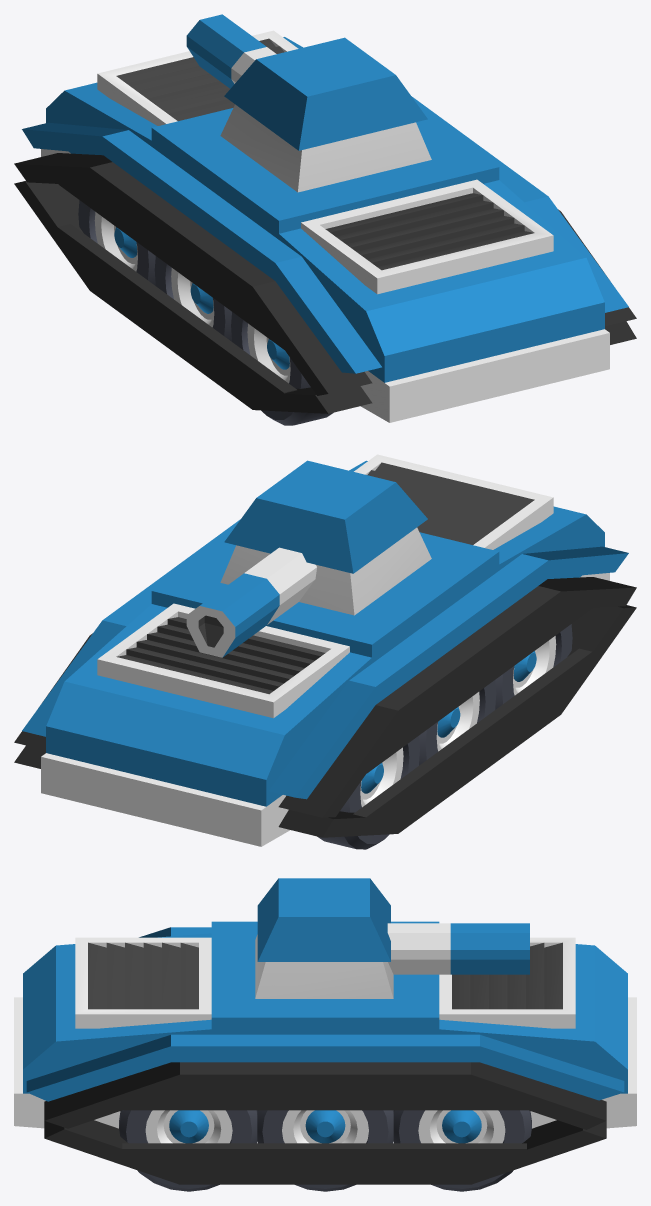
Rendered from Tank01.obj.
The picture shows the model from 3 angles, top to bottom: view 1: azimuth 30°, elevation 25°; view 2: azimuth 150°, elevation 25°; view 3: azimuth 270°, elevation 25°; orthographic projection. The views are drawn at different scales.
Visible parts, largest first — view 1: hood_default_2, engine_default_24, detail_fenderSquare_12, air_ventLarge_26, block_default_8, detail_fenderSquare_11, detail_fenderSquare_7, air_ventLarge_25, engine_barrel_23, hood_default_1, detail_fenderSquare_22, wheel_colored_14 (+2 smaller); view 2: hood_default_1, engine_default_24, detail_fenderSquare_12, detail_fenderSquare_11, air_ventLarge_25, detail_fenderSquare_7, block_default_8, air_ventLarge_26, engine_barrel_23, hood_default_2, detail_fenderSquare_22, wheel_colored_15 (+2 smaller); view 3: detail_fenderSquare_20, detail_fenderSquare_21, detail_fenderSquare_22, engine_default_24, block_default_8, air_ventLarge_26, hood_default_2, hood_default_1, air_ventLarge_25, engine_barrel_23, wheel_colored_17, wheel_colored_18 (+2 smaller).
Boxes of the visible parts, box(x1,y1,x2,y2) form: hood_default_2: box(279, 180, 609, 422); engine_default_24: box(220, 37, 431, 192); detail_fenderSquare_12: box(14, 153, 372, 395); air_ventLarge_26: box(301, 179, 553, 294); block_default_8: box(151, 108, 499, 239); detail_fenderSquare_11: box(14, 181, 372, 413); detail_fenderSquare_7: box(22, 122, 381, 373); air_ventLarge_25: box(97, 30, 298, 125); engine_barrel_23: box(186, 14, 276, 88); hood_default_1: box(41, 37, 302, 156); detail_fenderSquare_22: box(411, 96, 628, 312); wheel_colored_14: box(231, 312, 333, 425); hood_default_1: box(41, 604, 371, 846); engine_default_24: box(220, 460, 431, 615); detail_fenderSquare_12: box(278, 577, 636, 817); detail_fenderSquare_11: box(278, 605, 636, 837); air_ventLarge_25: box(97, 603, 349, 718); detail_fenderSquare_7: box(269, 546, 628, 799); block_default_8: box(151, 532, 499, 663); air_ventLarge_26: box(354, 454, 553, 549); engine_barrel_23: box(186, 547, 316, 657); hood_default_2: box(349, 460, 609, 580); detail_fenderSquare_22: box(22, 519, 240, 736); wheel_colored_15: box(317, 736, 419, 849); detail_fenderSquare_20: box(44, 1062, 606, 1129); detail_fenderSquare_21: box(44, 1120, 606, 1184); detail_fenderSquare_22: box(26, 1034, 624, 1101); engine_default_24: box(255, 878, 393, 998); block_default_8: box(211, 921, 439, 1034); air_ventLarge_26: box(75, 937, 211, 1028); hood_default_2: box(14, 933, 211, 1128); hood_default_1: box(439, 944, 636, 1128); air_ventLarge_25: box(439, 937, 575, 1028); engine_barrel_23: box(387, 923, 529, 974); wheel_colored_17: box(393, 1110, 531, 1191); wheel_colored_18: box(119, 1110, 257, 1191).
Bounding box in the file's own units: 1.4 × 1.16 × 2.74.
